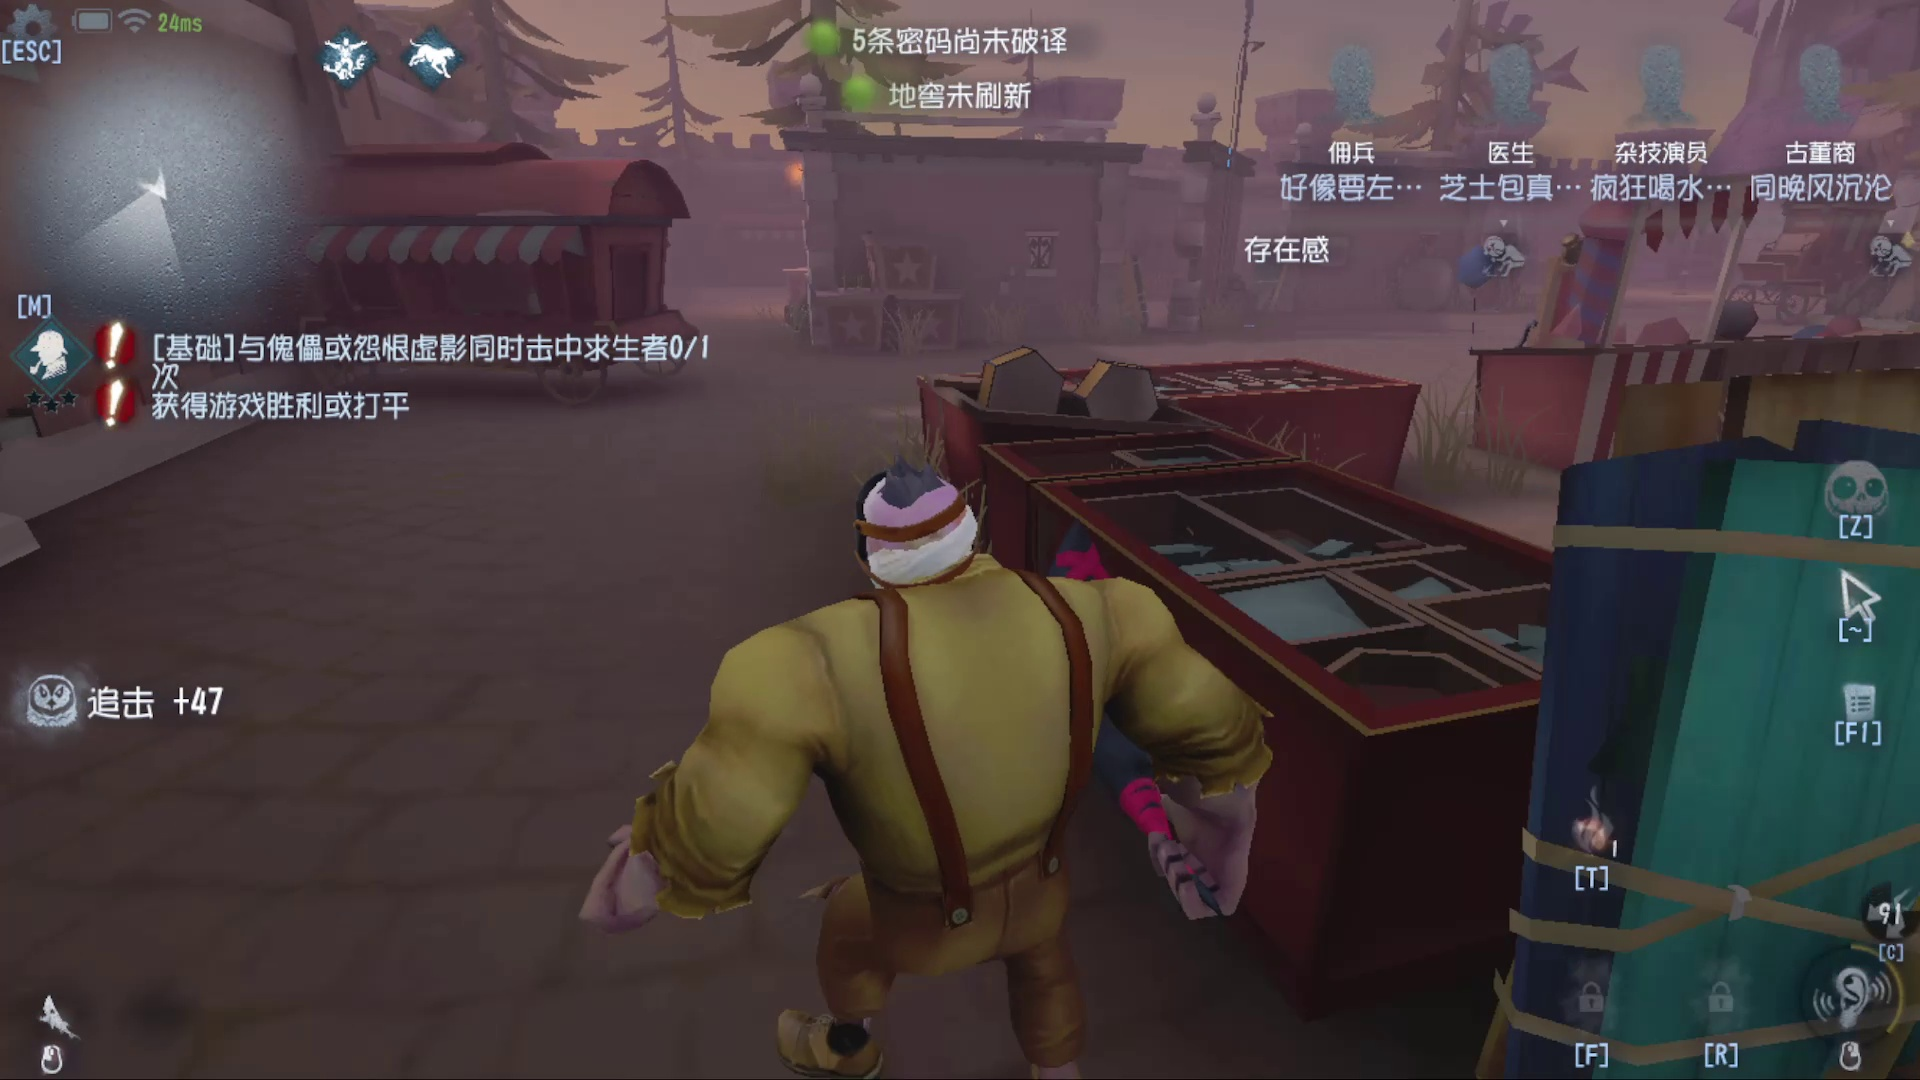木板: (1501, 433, 1908, 1073), (1102, 240, 1166, 336), (1242, 231, 1295, 324)
狂欢之椅: (1534, 185, 1629, 394)
